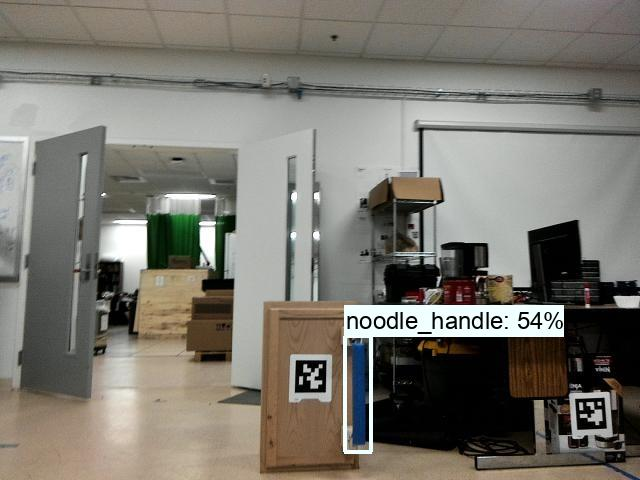noodle_handle: (345, 340, 371, 451)
